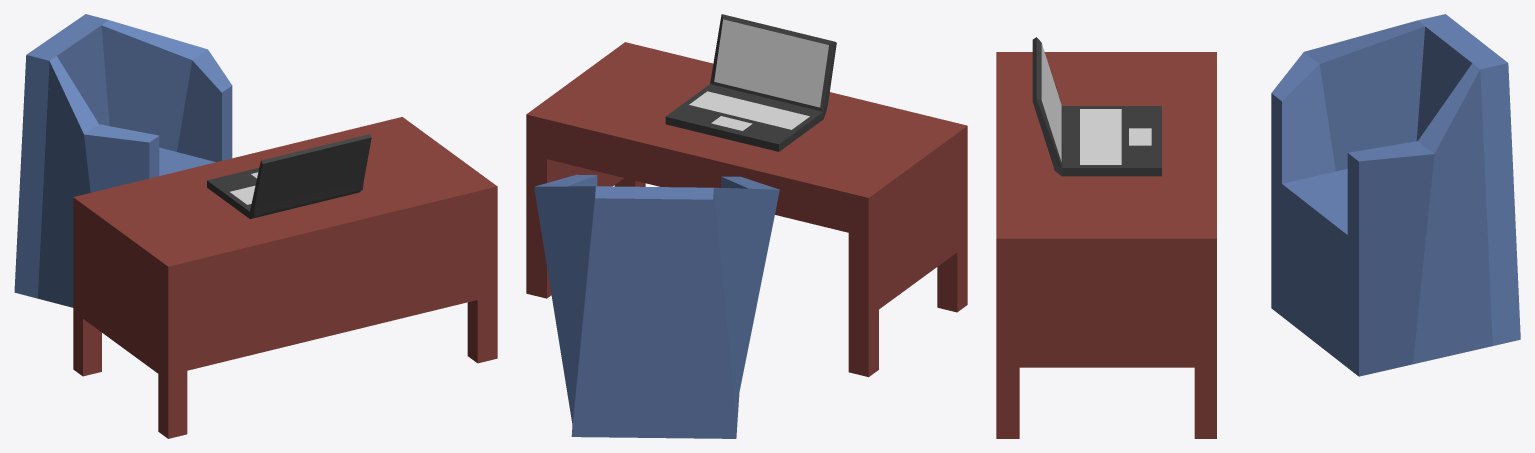
Rendered from DeskAndChair.glb.
The picture shows the model from 3 angles, left to right: view 1: azimuth 30°, elevation 25°; view 2: azimuth 150°, elevation 25°; view 3: azimuth 270°, elevation 25°; orthographic projection. The views are drawn at different scales.
Parts seen in each view (by area): view 1: Cube, Cube.002, Cube.001; view 2: Cube, Cube.002, Cube.001; view 3: Cube.002, Cube, Cube.001.
Boxes of the visible parts, bbox=[...] form: Cube: bbox=[73, 117, 497, 438]; Cube.002: bbox=[14, 14, 232, 307]; Cube.001: bbox=[207, 134, 371, 218]; Cube: bbox=[526, 42, 967, 377]; Cube.002: bbox=[534, 174, 779, 438]; Cube.001: bbox=[665, 14, 836, 151]; Cube.002: bbox=[1271, 14, 1520, 376]; Cube: bbox=[996, 52, 1216, 438]; Cube.001: bbox=[1032, 37, 1161, 176].
Size of what is drawn, in the model's own units: 1.2 by 0.8318 by 1.42.
